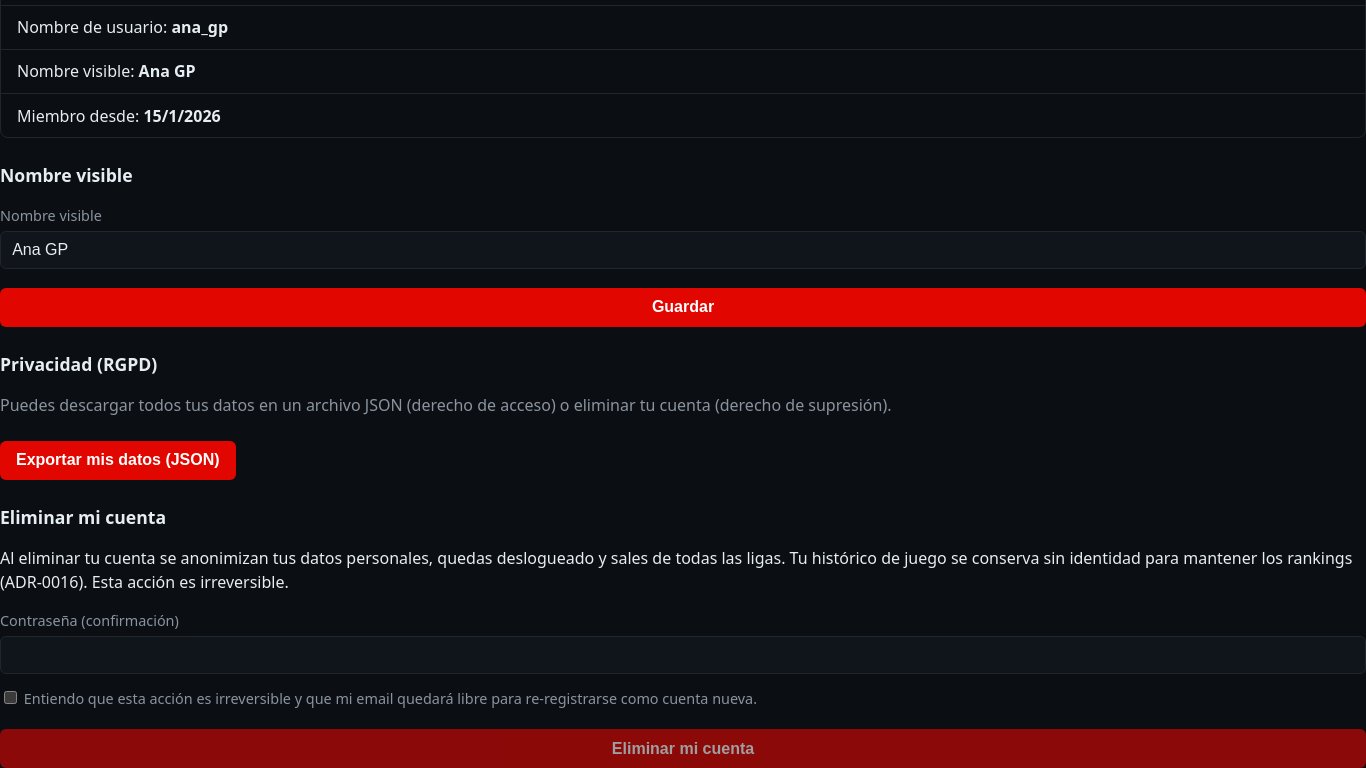
Test: PerfilPage › delete: el botón está deshabilitado hasta marcar la confirmación
The width and height of the screenshot is (1366, 768).
(page scrolled)
Expected: the button "Eliminar mi cuenta" is disabled, [0,729,1365,767]
Click the checkbox labelled "Entiendo que esta acción es irreversible".
click(10, 698)  # box [4,692,17,704]
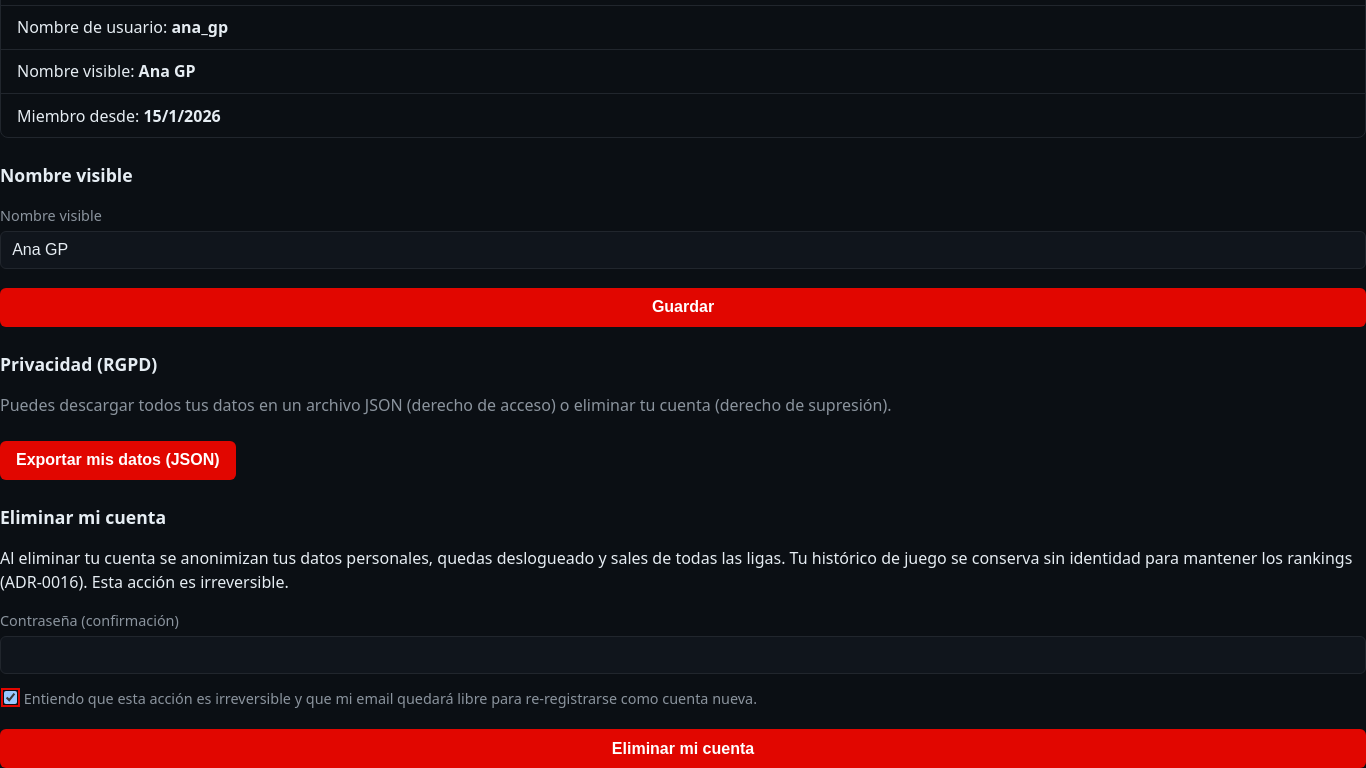
Expected: the button "Eliminar mi cuenta" is enabled, [0,729,1365,767]
